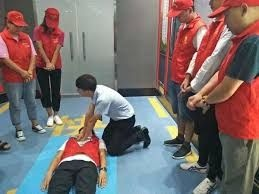falling: (31, 118, 114, 193)
